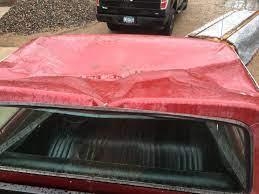roof-dent: (4, 36, 258, 127)
